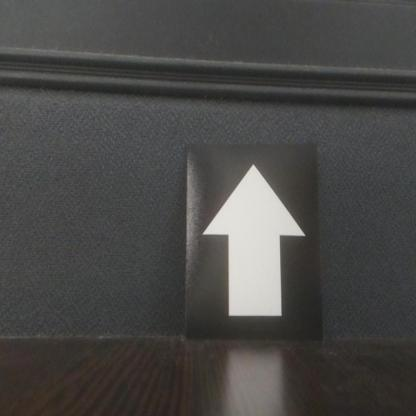up: (187, 144, 321, 341)
